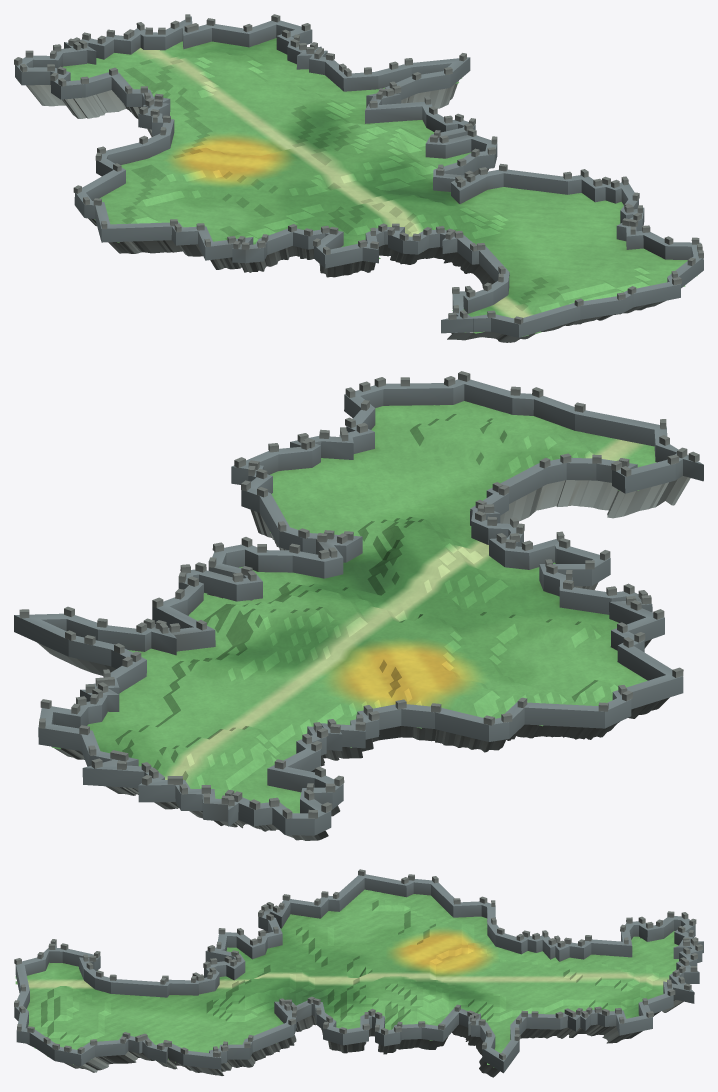
3 views of the same model, one above another, from view 1: azimuth 30°, elevation 25°; view 2: azimuth 150°, elevation 25°; view 3: azimuth 270°, elevation 25° (orthographic). The views are drawn at different scales.
Parts seen in each view (by area): view 1: ground_8d11eea0; view 2: ground_8d11eea0; view 3: ground_8d11eea0.
Part boxes in pixels (bbox=[...]): ground_8d11eea0: bbox=[14, 14, 703, 342]; ground_8d11eea0: bbox=[14, 371, 703, 840]; ground_8d11eea0: bbox=[14, 869, 703, 1077].
Bounding box in the file's own units: 105 × 7.71 × 162.
2 materials, 1 textured.
